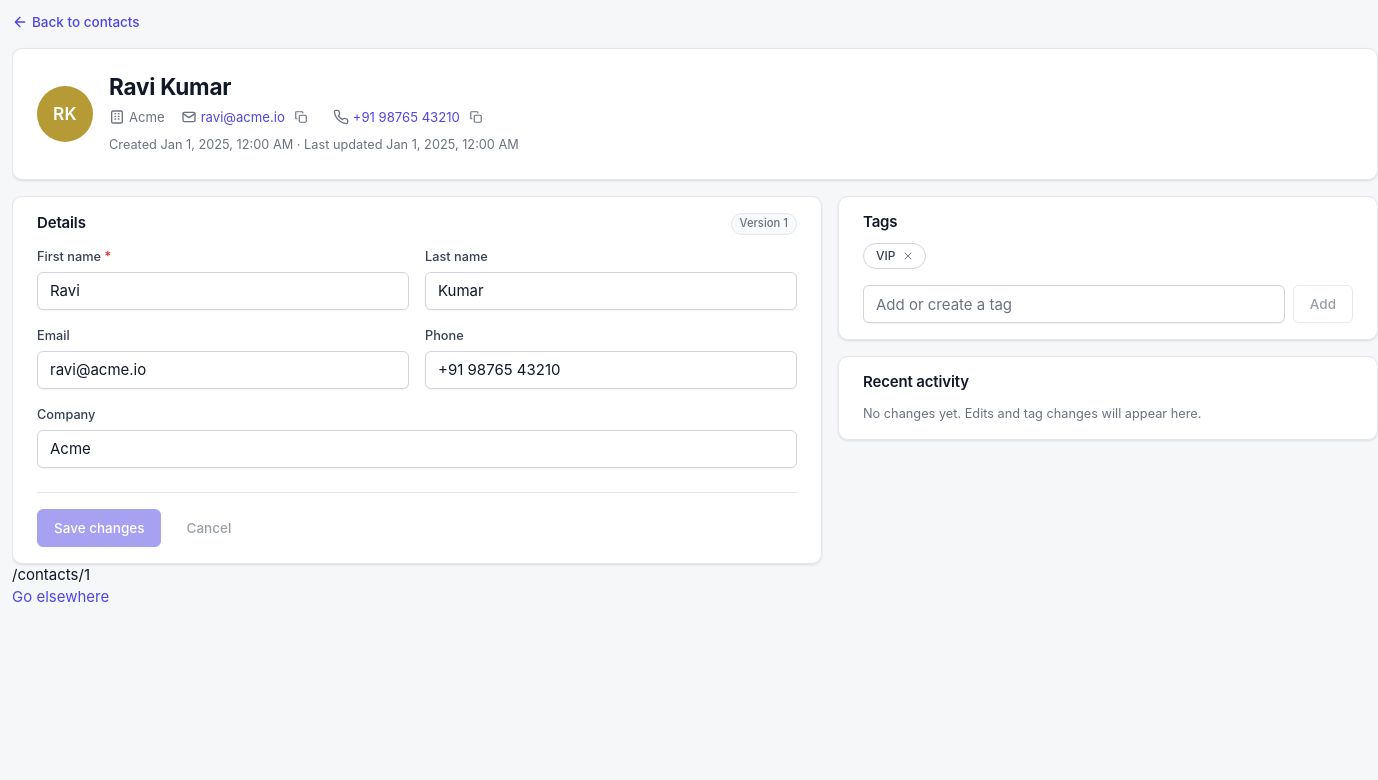
TagEditor: optimistic updates › with two quick changes, a failure rolls back only its own change
The image size is (1378, 780).
Expected: the heading "Ravi Kumar" is shown, top-left (109, 73), bottom-right (231, 100)
Type "Partner" into the dropdown named "New tag" at (1074, 304), box top-left (863, 285), bottom-right (1285, 323)
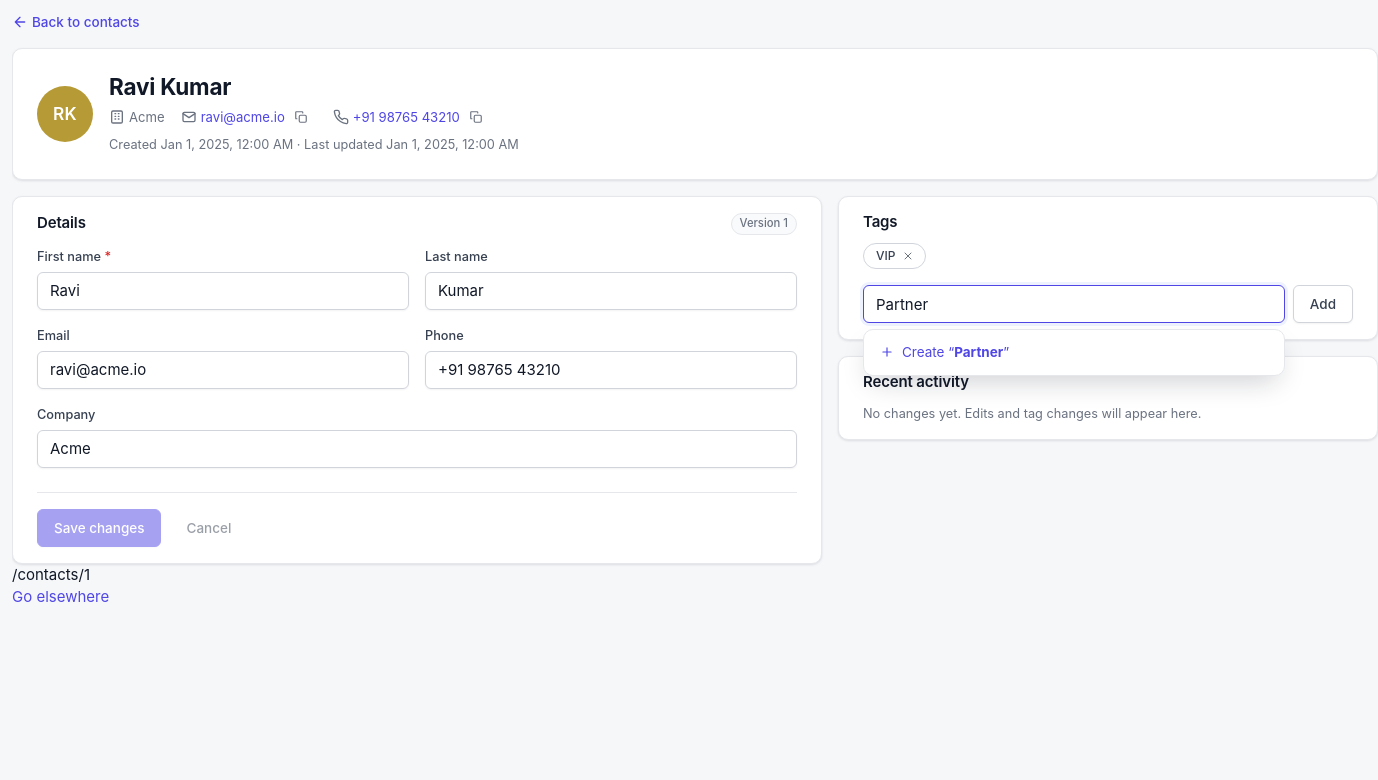
Click the button "Add" at (1323, 304), box top-left (1293, 285), bottom-right (1353, 323)
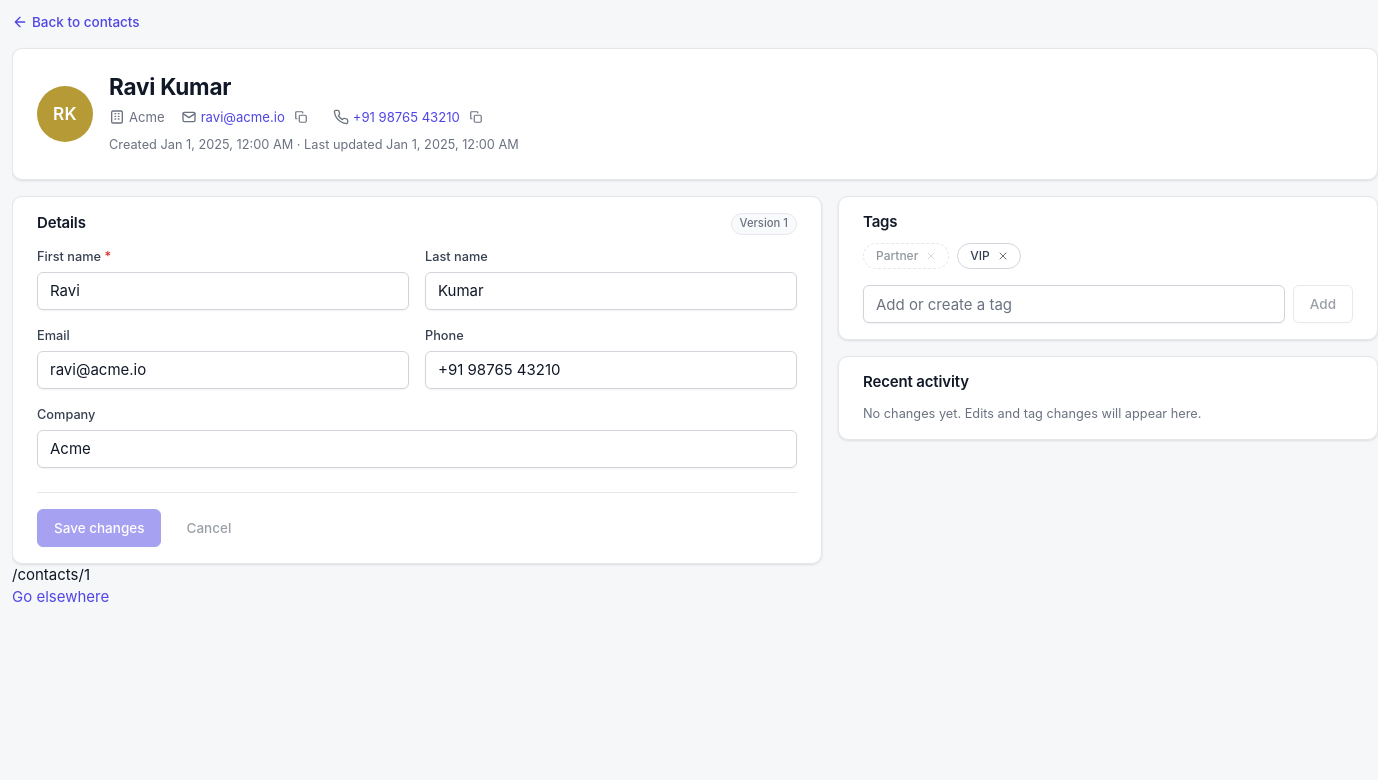
Type "Webinar" into the dropdown named "New tag" at (1074, 304), box top-left (863, 285), bottom-right (1285, 323)
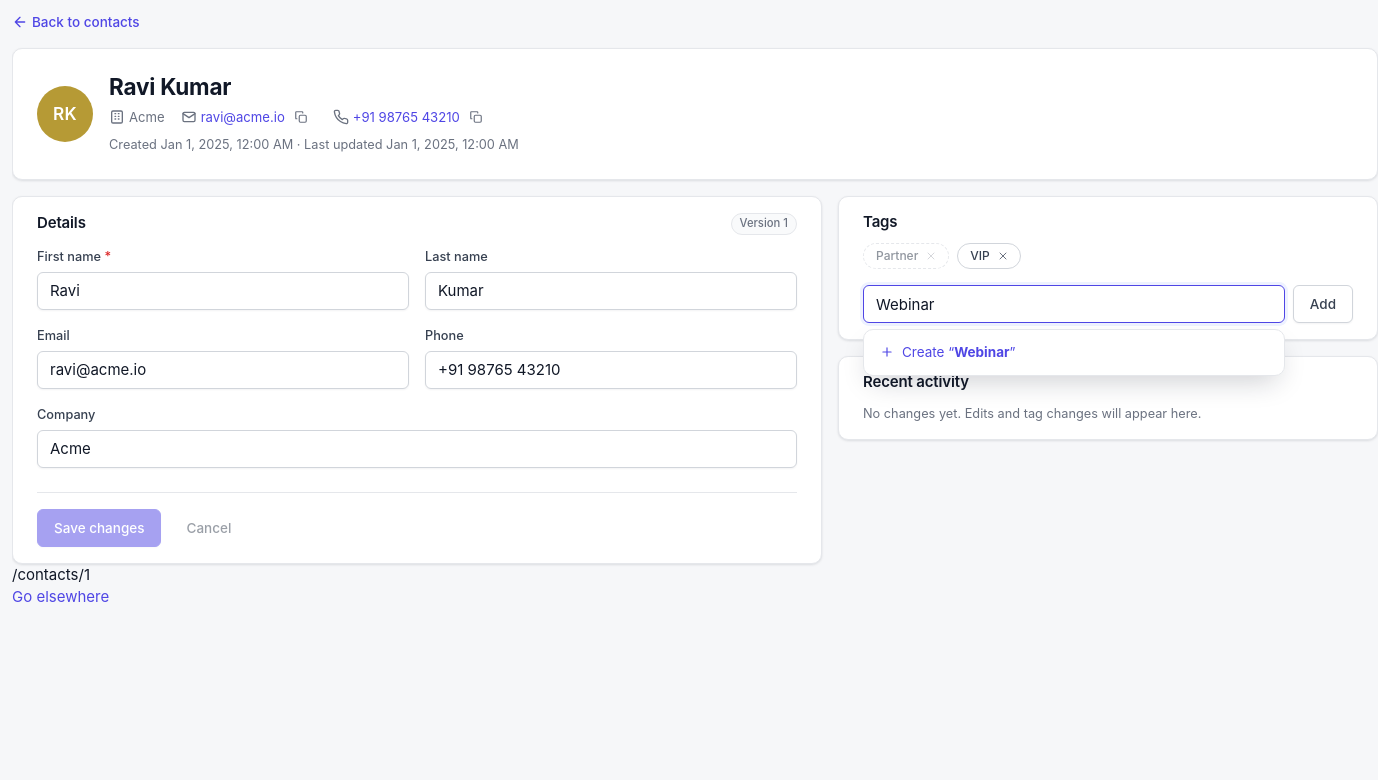
Click the button "Add" at (1323, 304), box top-left (1293, 285), bottom-right (1353, 323)
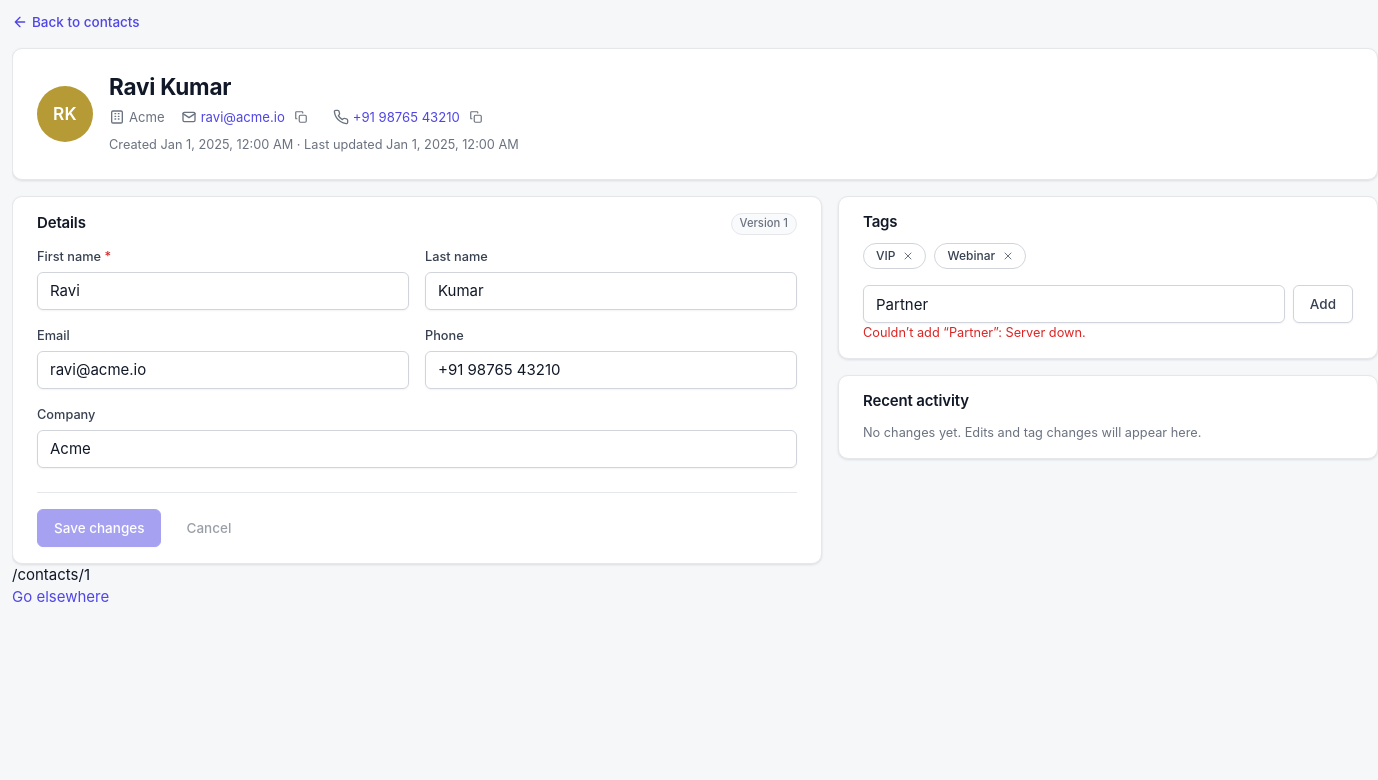
Expected: the text "Couldn’t add “Partner”: Server down." is shown, top-left (863, 325), bottom-right (1086, 340)
